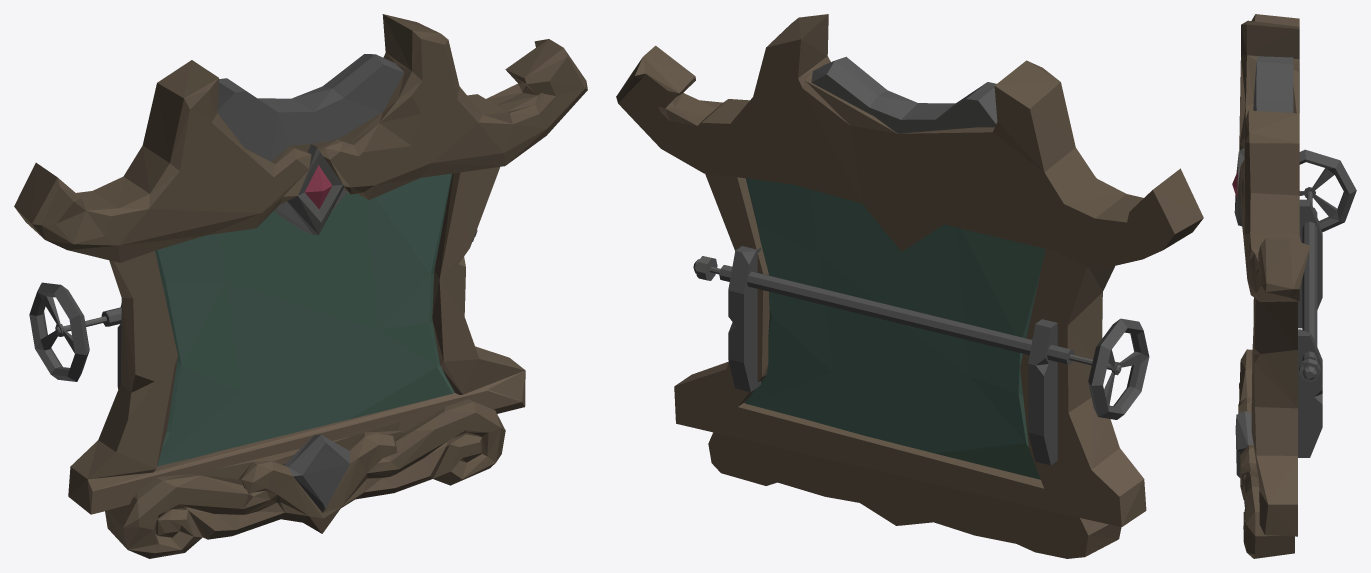
Rendered from Board_001.fbx.
3 renders of one model, left to right at view 1: azimuth 30°, elevation 25°; view 2: azimuth 150°, elevation 25°; view 3: azimuth 270°, elevation 25°, orthographic. The views are drawn at different scales.
Parts seen in each view (by area): view 1: Board_001; view 2: Board_001; view 3: Board_001.
Part boxes in pixels (x1=…): Board_001: x1=14, y1=14, x2=587, y2=558; Board_001: x1=616, y1=14, x2=1203, y2=558; Board_001: x1=1232, y1=14, x2=1356, y2=558.
Size of the model in its own units: 1.58 by 1.3 by 0.3394.
